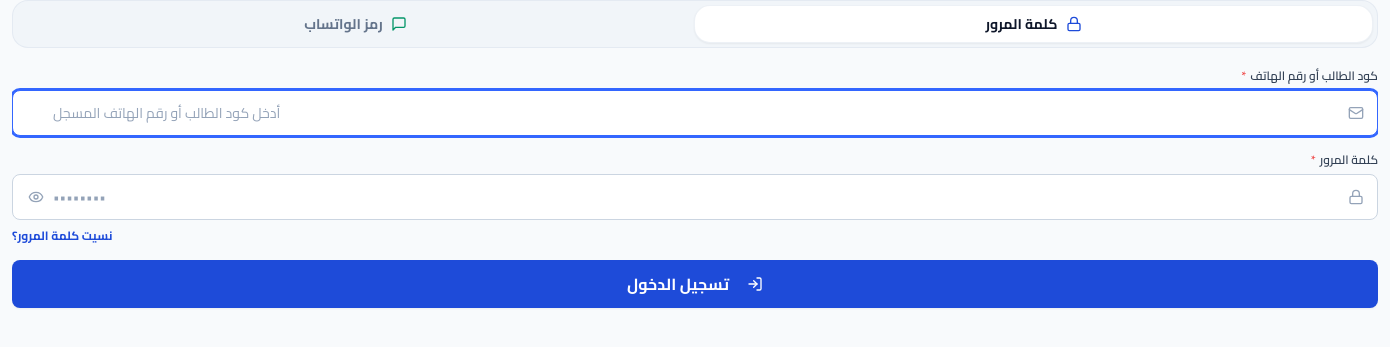
LoginForm Component › validates minimum password length requirement
Type "teacher@elawal.com" into the field labelled "كود الطالب أو رقم الهاتف*" at x=695, y=113, box [12,90,1378,136]
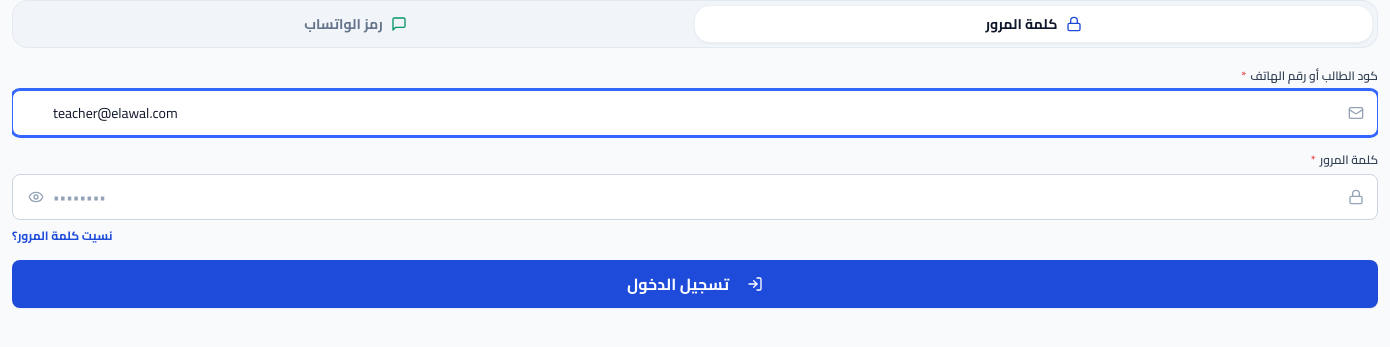
Type "123" into the password field labelled "كلمة المرور*" at x=695, y=197, box [12,174,1378,220]
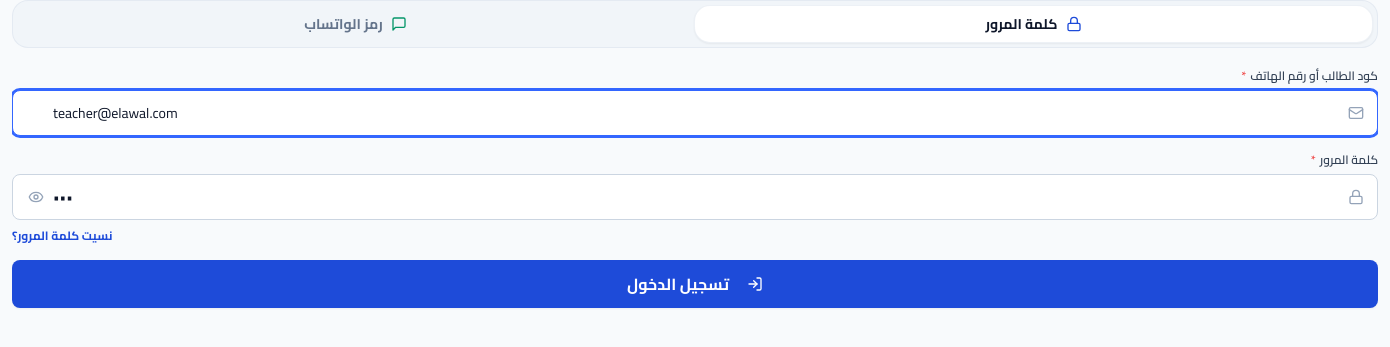
Click the button "تسجيل الدخول" at x=695, y=284, box [12,260,1378,308]
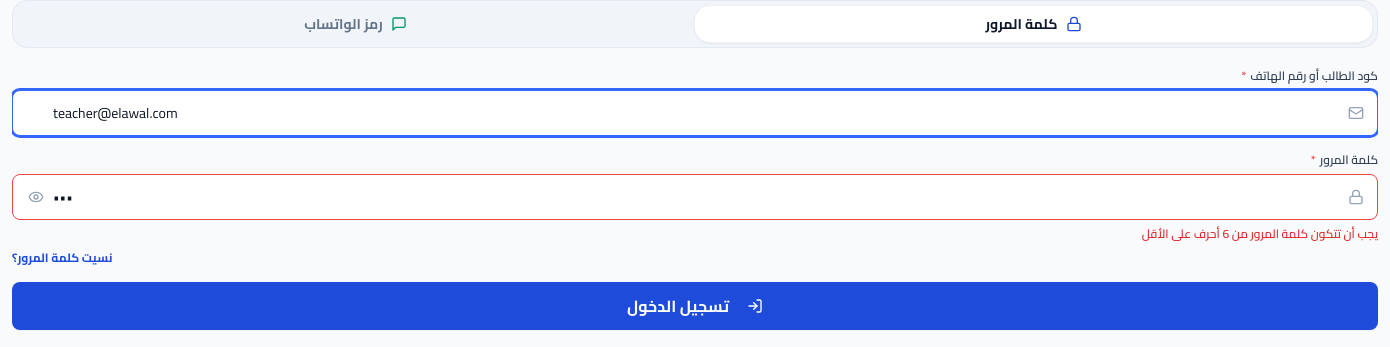
expect the text "يجب أن تتكون كلمة المرور من 6 أحرف على الأقل" is shown: met, box [1142,222,1378,245]
